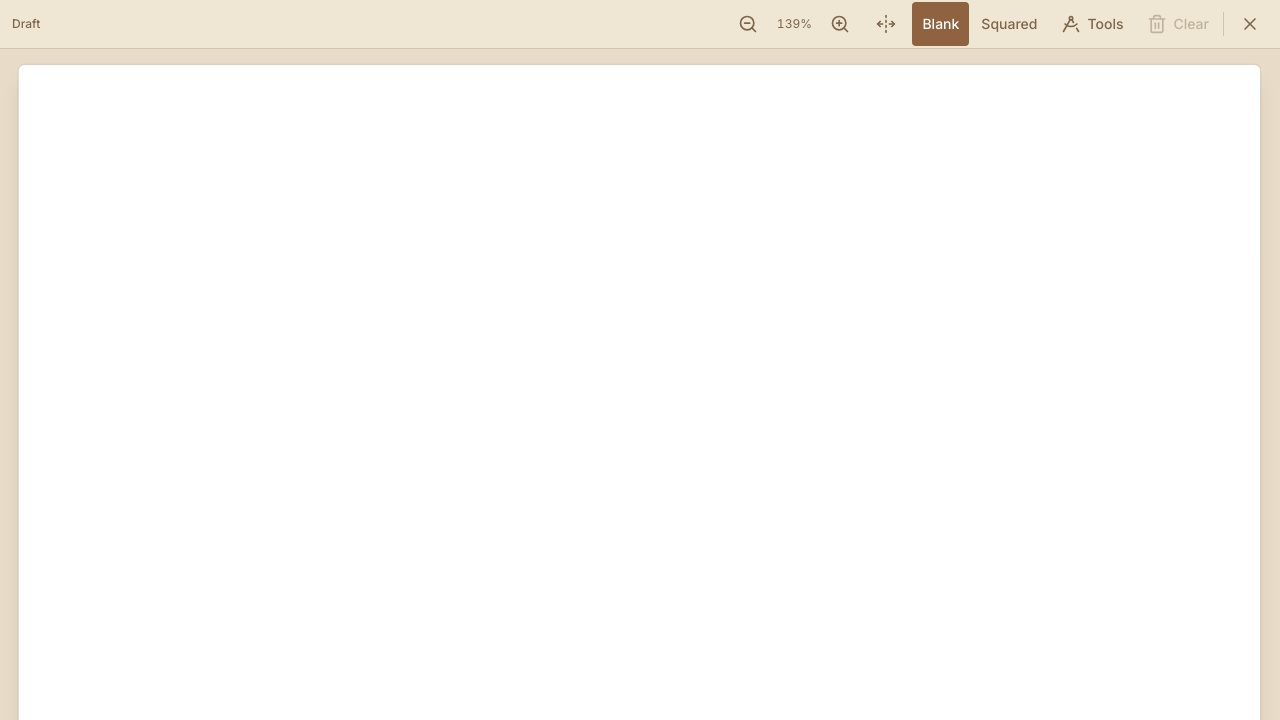
Test: DraftPane › drawing axes › opens the axes panel from the Tools menu, and Place the axes asks for a tap
Click the button "Tools": click(1092, 24) [1051,2,1133,46]
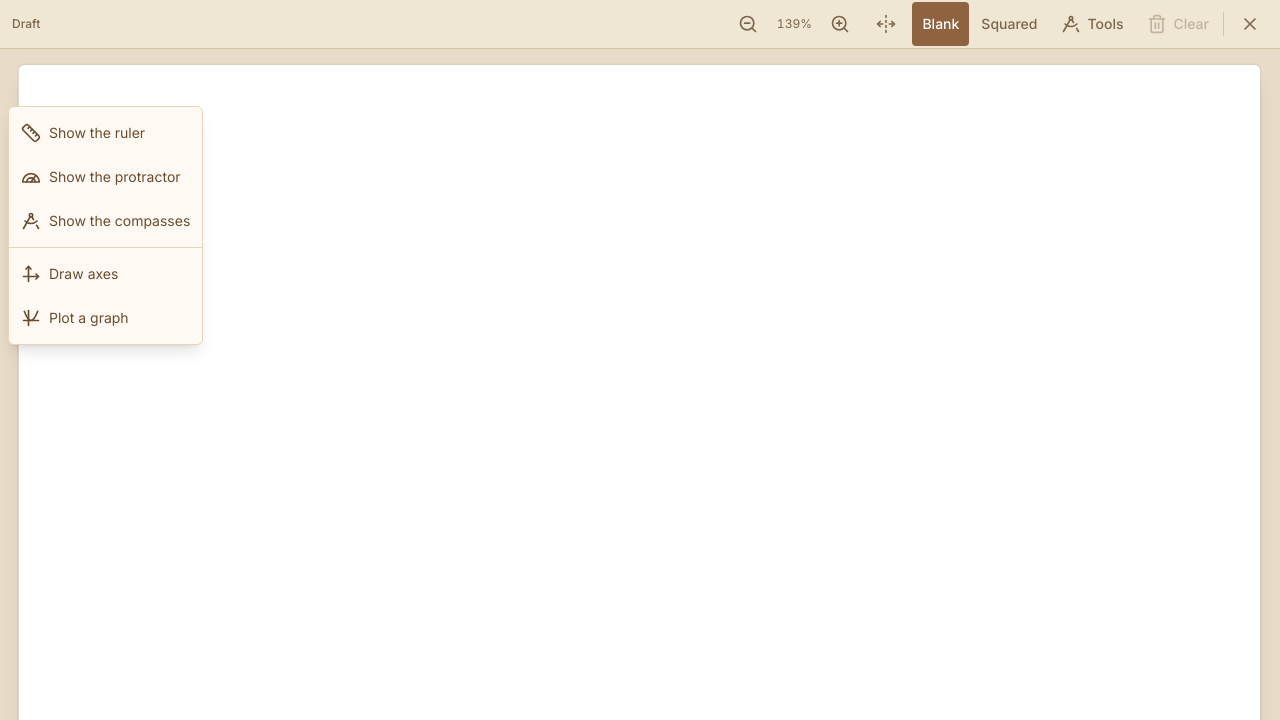
Click the menu item "Draw axes": click(106, 274) [9,252,202,296]
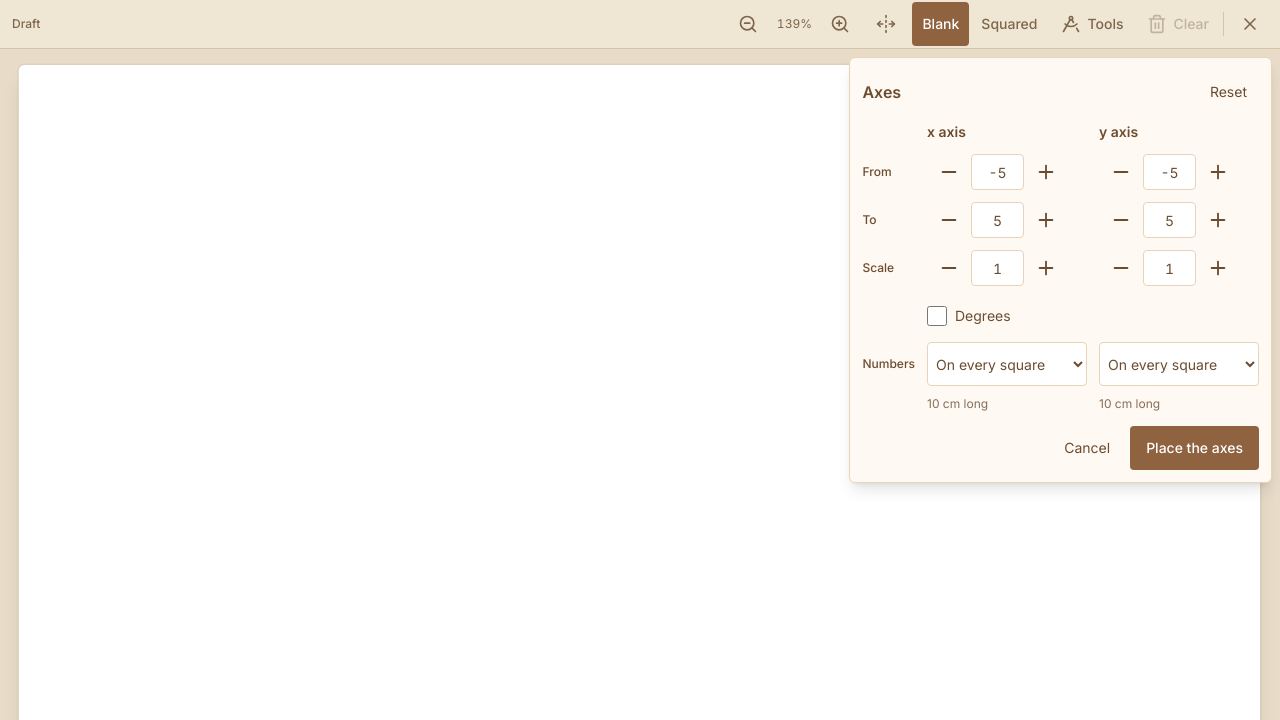
Expected: the dialog "Axes" is shown, [850,57,1272,483]
Click the button "Place the axes": click(1195, 448) [1130,426,1259,470]
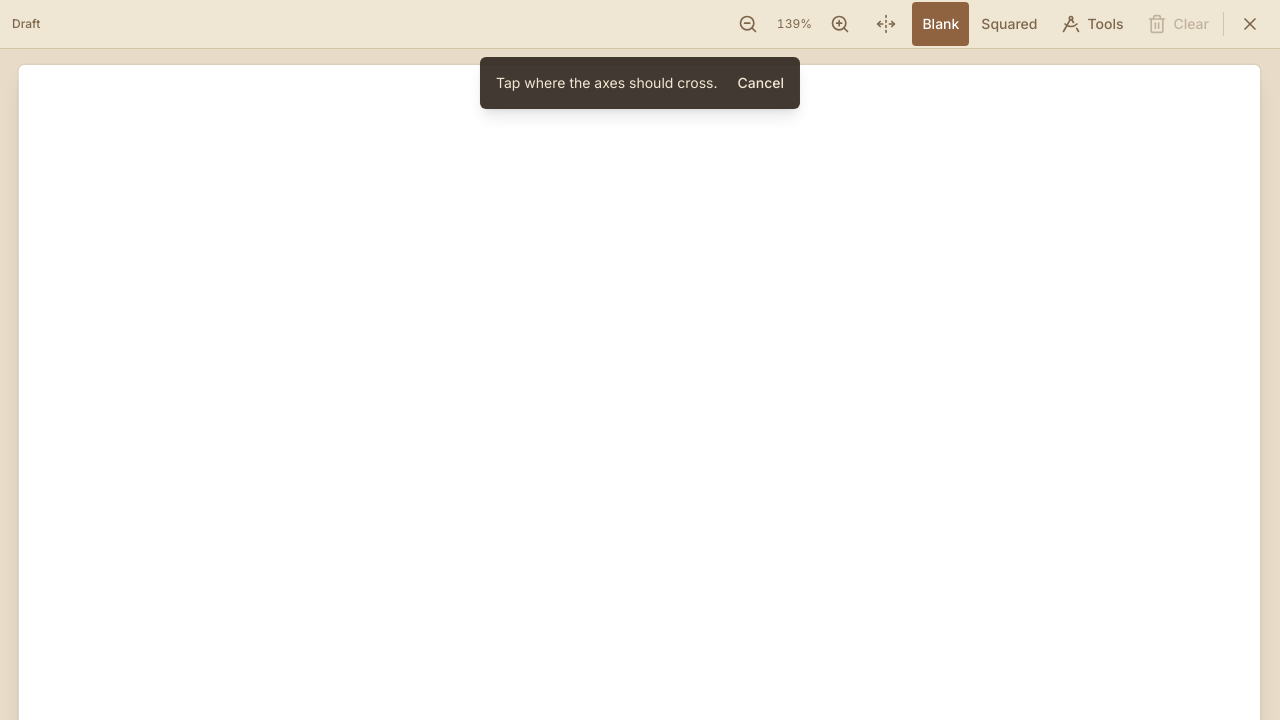
Expected: the text "Tap where the axes should cross." is shown, [496,73,718,93]
